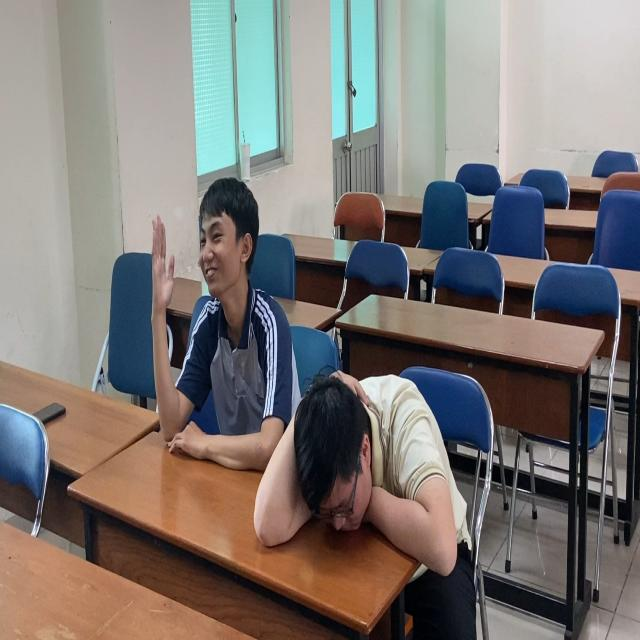raise_hand: (142, 179, 301, 459)
sleep: (258, 375, 470, 580)
